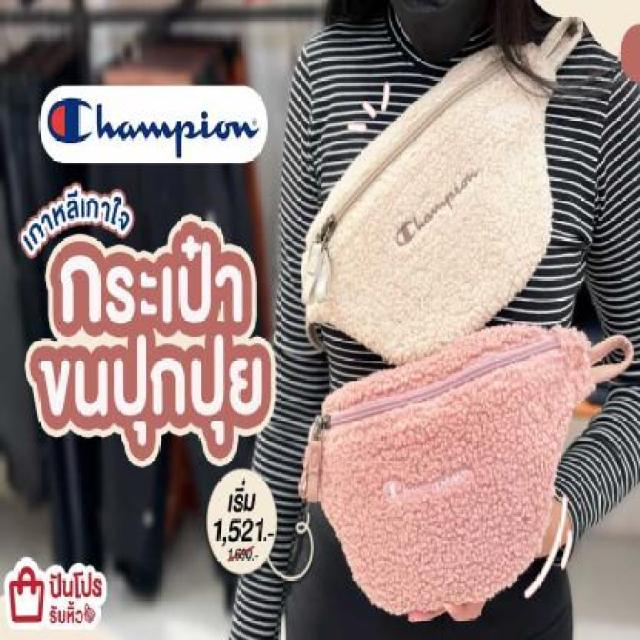Bag: (272, 25, 626, 373), (294, 335, 640, 634)
